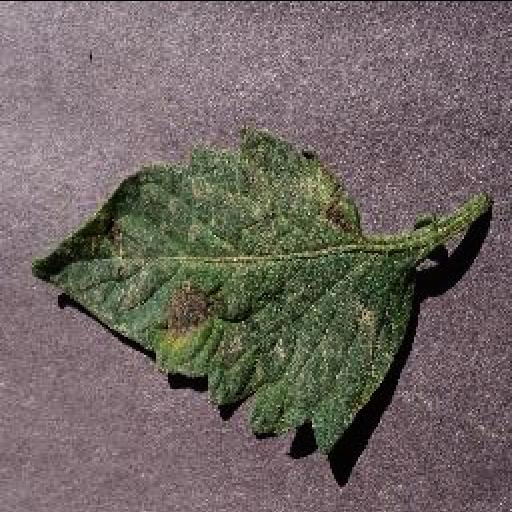Early Blight: (26, 132, 412, 456)
